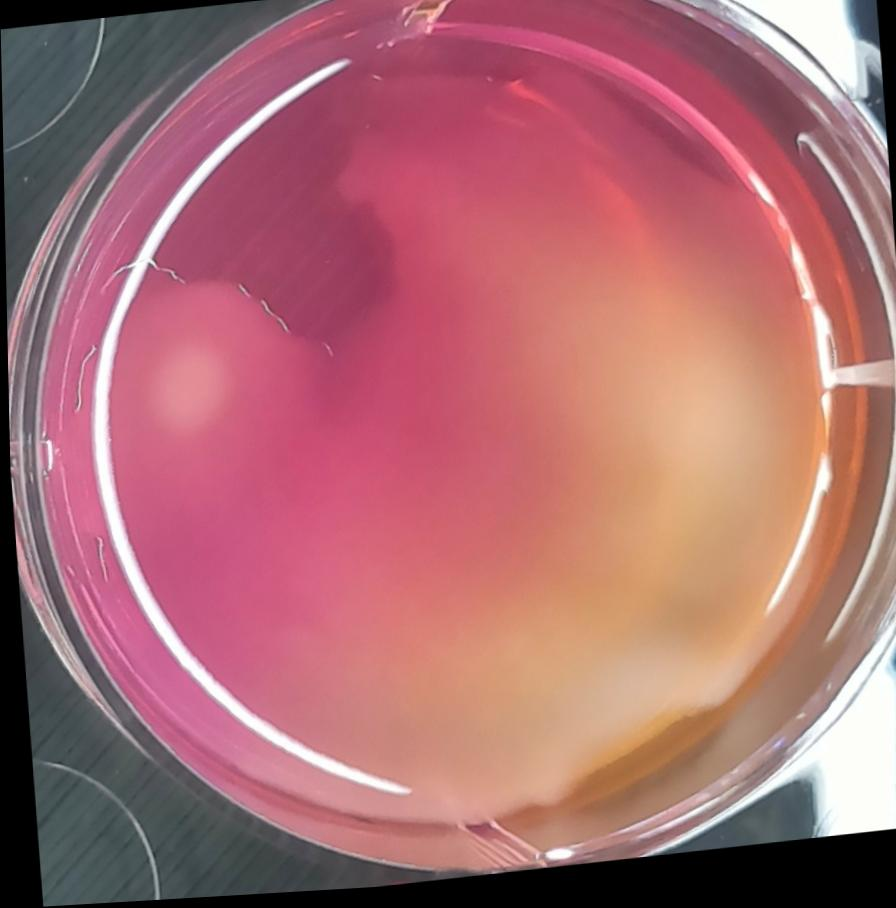valgino: (52, 231, 340, 522)
